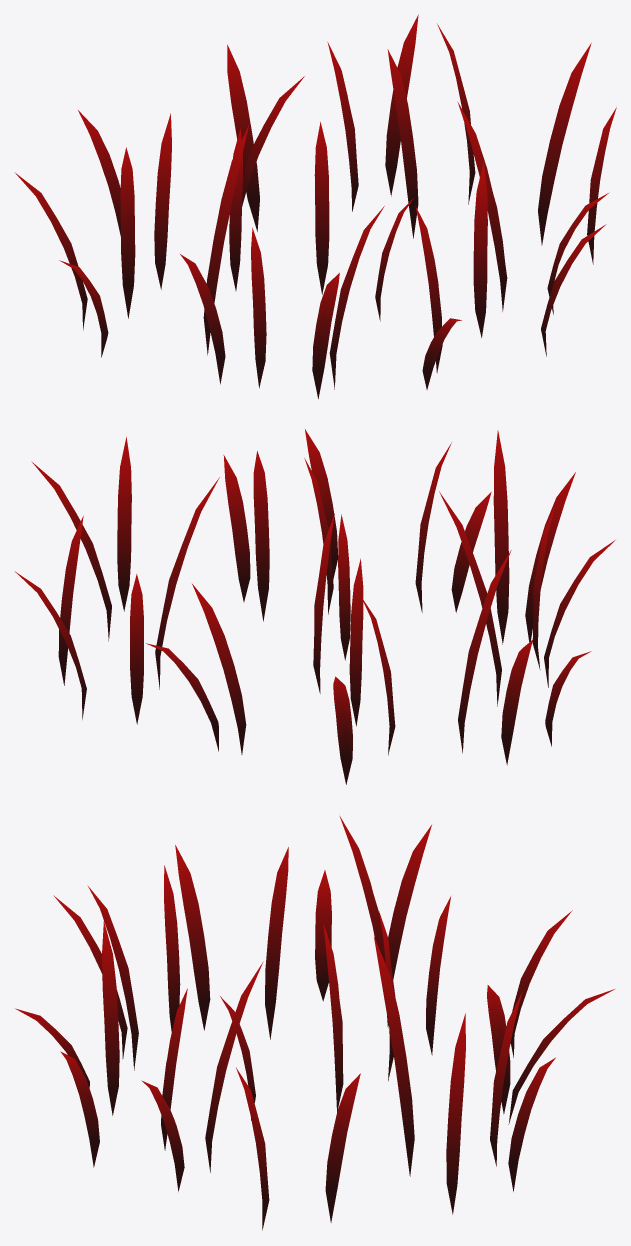
File: Grass.fbx
3 views of the same model, one above another, from view 1: azimuth 30°, elevation 25°; view 2: azimuth 150°, elevation 25°; view 3: azimuth 270°, elevation 25° (orthographic). The views are drawn at different scales.
Parts seen in each view (by area): view 1: Grass; view 2: Grass; view 3: Grass.
Boxes of the visible parts, box(x1,y1,x2,y2) form: Grass: box(14, 14, 616, 398); Grass: box(14, 429, 615, 784); Grass: box(15, 816, 614, 1230).
Bounding box in the file's own units: 2.06 × 0.7742 × 1.9.
